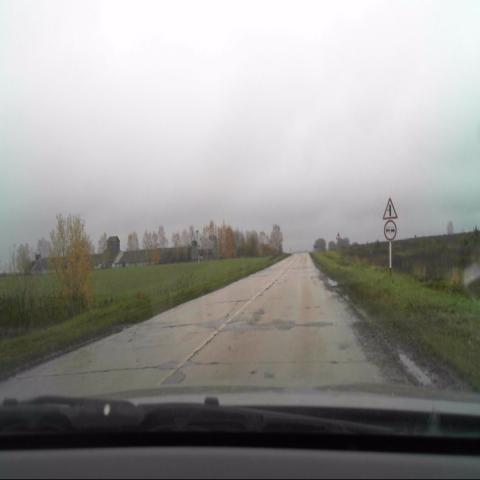2_3_3: (381, 197, 398, 218)
